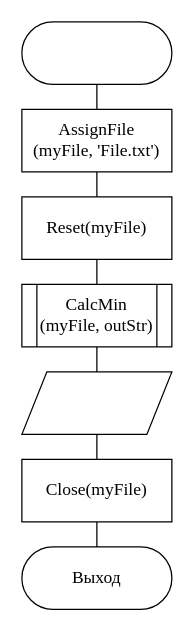
This 194x631 diagram has some shape labels left out. Here are the shapes that lost their labels. From the top down, the centre of each, then its label:
point 96,52: Вход
point 96,402: outStr
